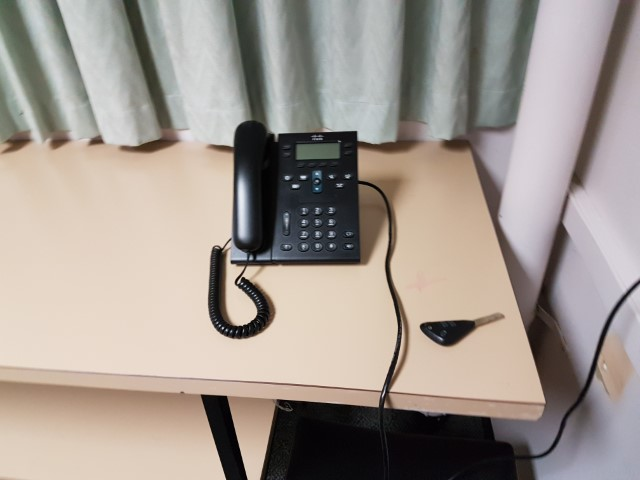key: (420, 313, 505, 348)
